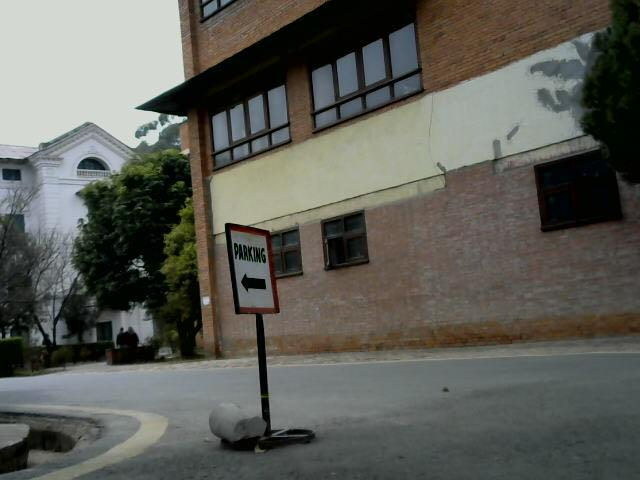Building: (181, 1, 640, 349)
Road: (1, 355, 640, 480)
Traffic sign: (216, 218, 315, 461)
Tree: (74, 158, 201, 349)
